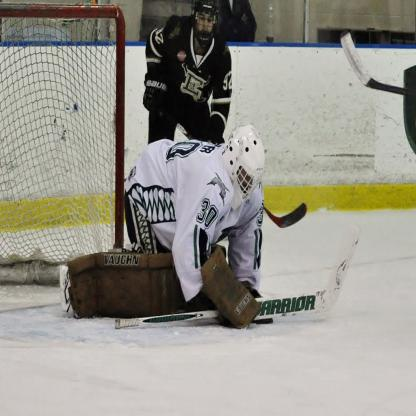Helmet: (221, 122, 264, 210), (187, 9, 219, 50)
